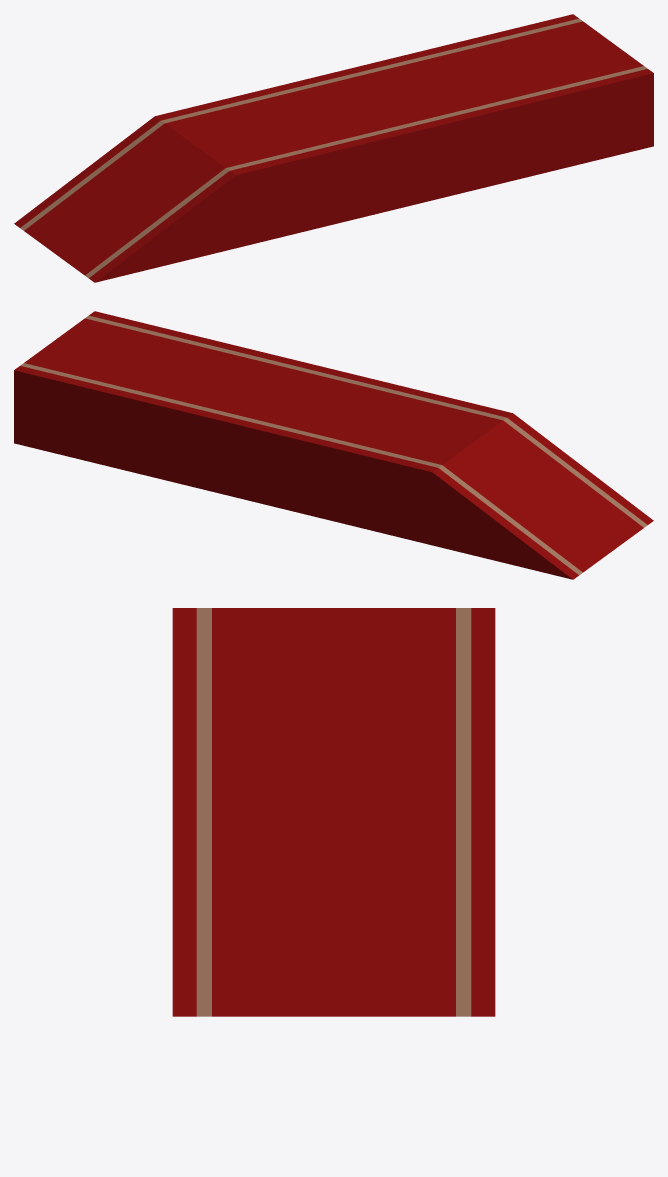
Rendered from OT_063_duam_catwalk.glb.
The picture shows the model from 3 angles, top to bottom: view 1: azimuth 30°, elevation 25°; view 2: azimuth 150°, elevation 25°; view 3: azimuth 270°, elevation 25°; orthographic projection. The views are drawn at different scales.
Parts seen in each view (by area): view 1: catwalk; view 2: catwalk; view 3: catwalk.
Part boxes in pixels (x1,y1,x2,y2): catwalk: (14, 14, 653, 282); catwalk: (14, 311, 653, 579); catwalk: (172, 608, 495, 1016).
Size of the model in its own units: 3 by 0.375 by 0.75.
